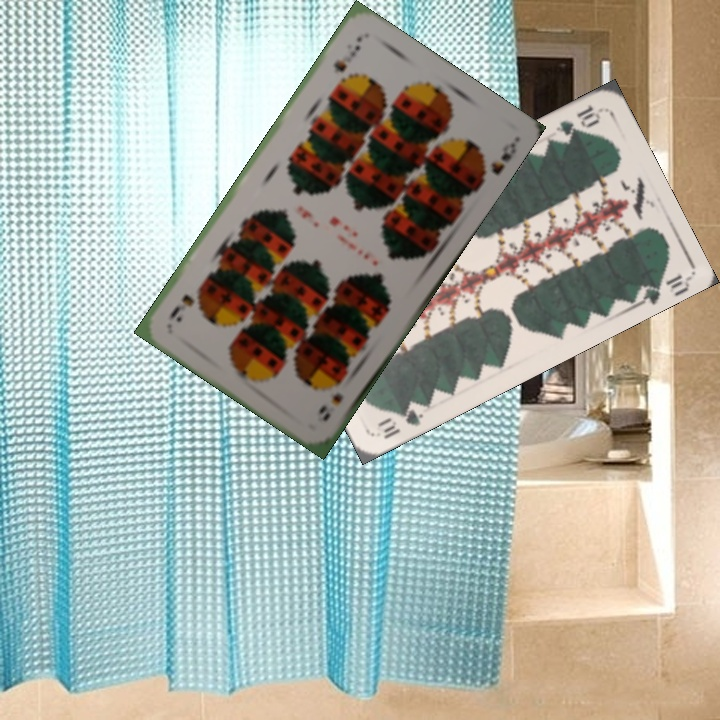G10: (373, 398, 427, 442), (551, 100, 604, 140)
S9: (329, 32, 365, 75), (314, 389, 346, 424)
